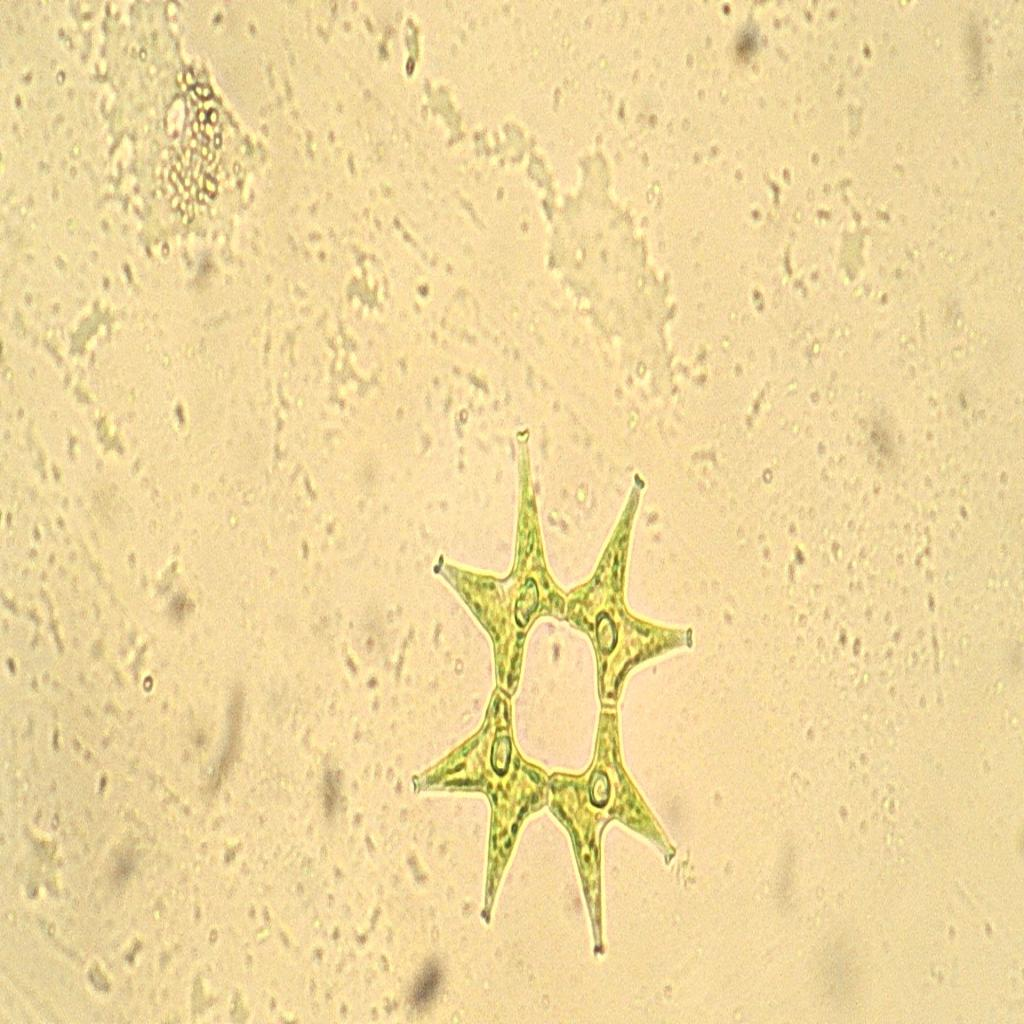Pediastrum_CO: (396, 413, 712, 984)
